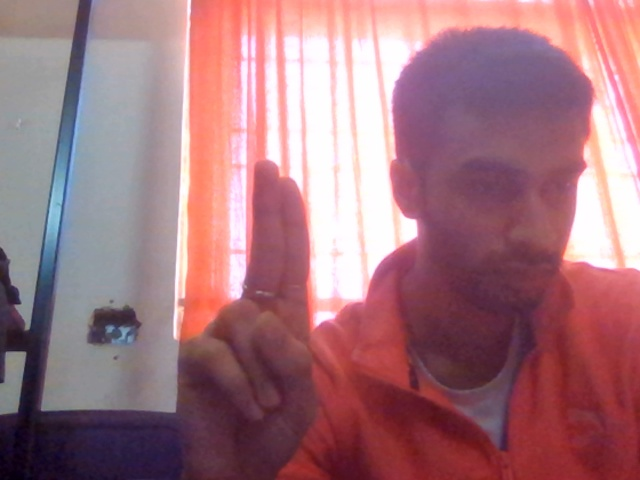U: (156, 135, 348, 480)
